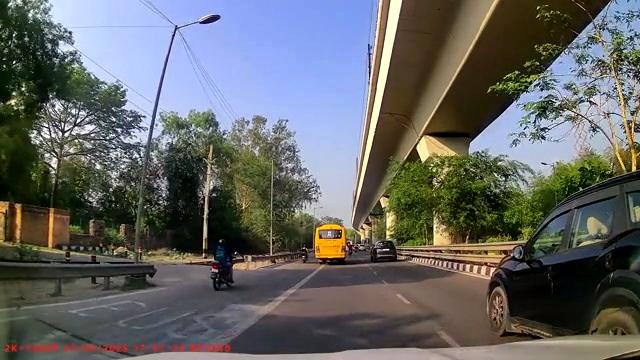motorcycle_with_helmet: (208, 237, 238, 292)
